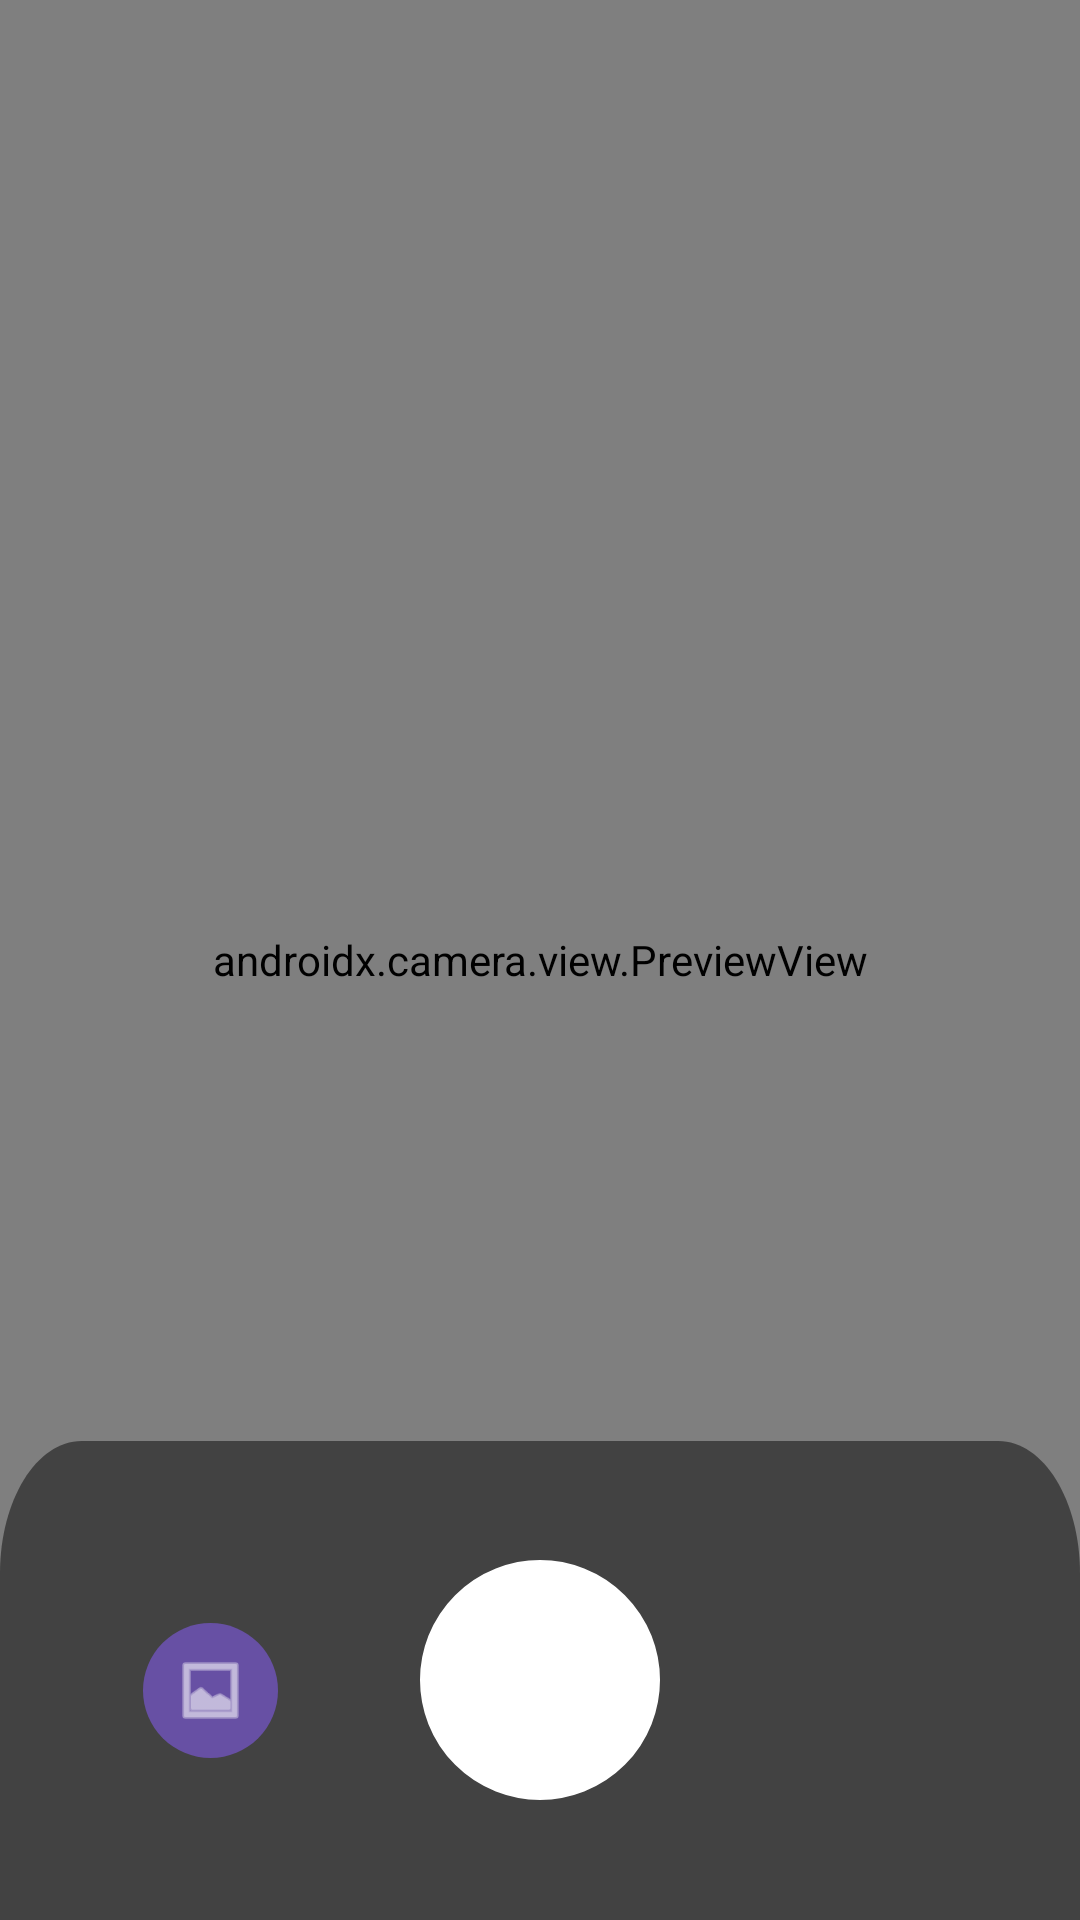

Screen size 1080x1920. Icon name, then its center in pixels as point (x, y):
gallery: point (210, 1690)
